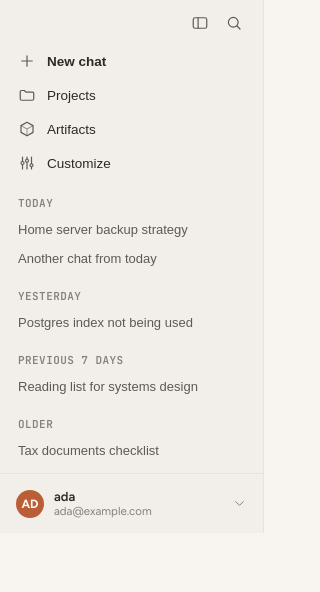
Sidebar › clicking the search button reveals the search input
Click the button titled "Search" at (234, 23), box x1=219 y1=8 x2=249 y2=38
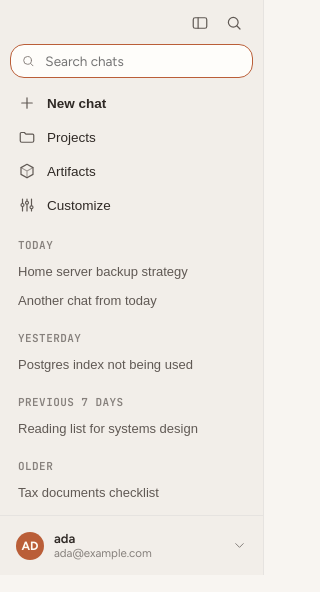
Result: the field with placeholder "Search chats" is shown at x1=43 y1=52 x2=242 y2=70
